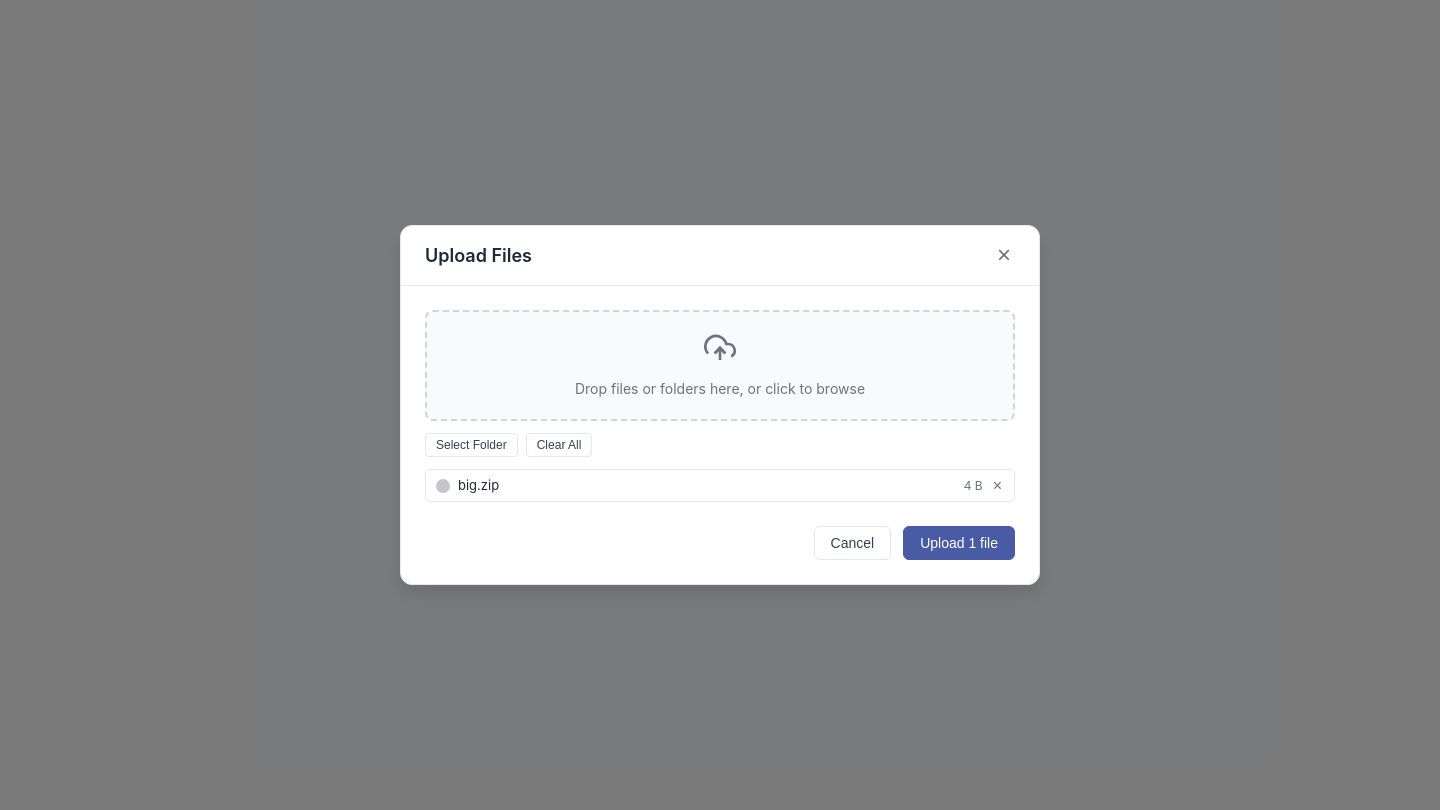
Test: UploadFileModal › shows percent progress, then Finalizing, then done
Earlier steps of the test are not shown.
Later steps or results of the test are not shown.
Click the button "Upload 1 file" at coordinates (959, 543), box [903, 526, 1015, 560]
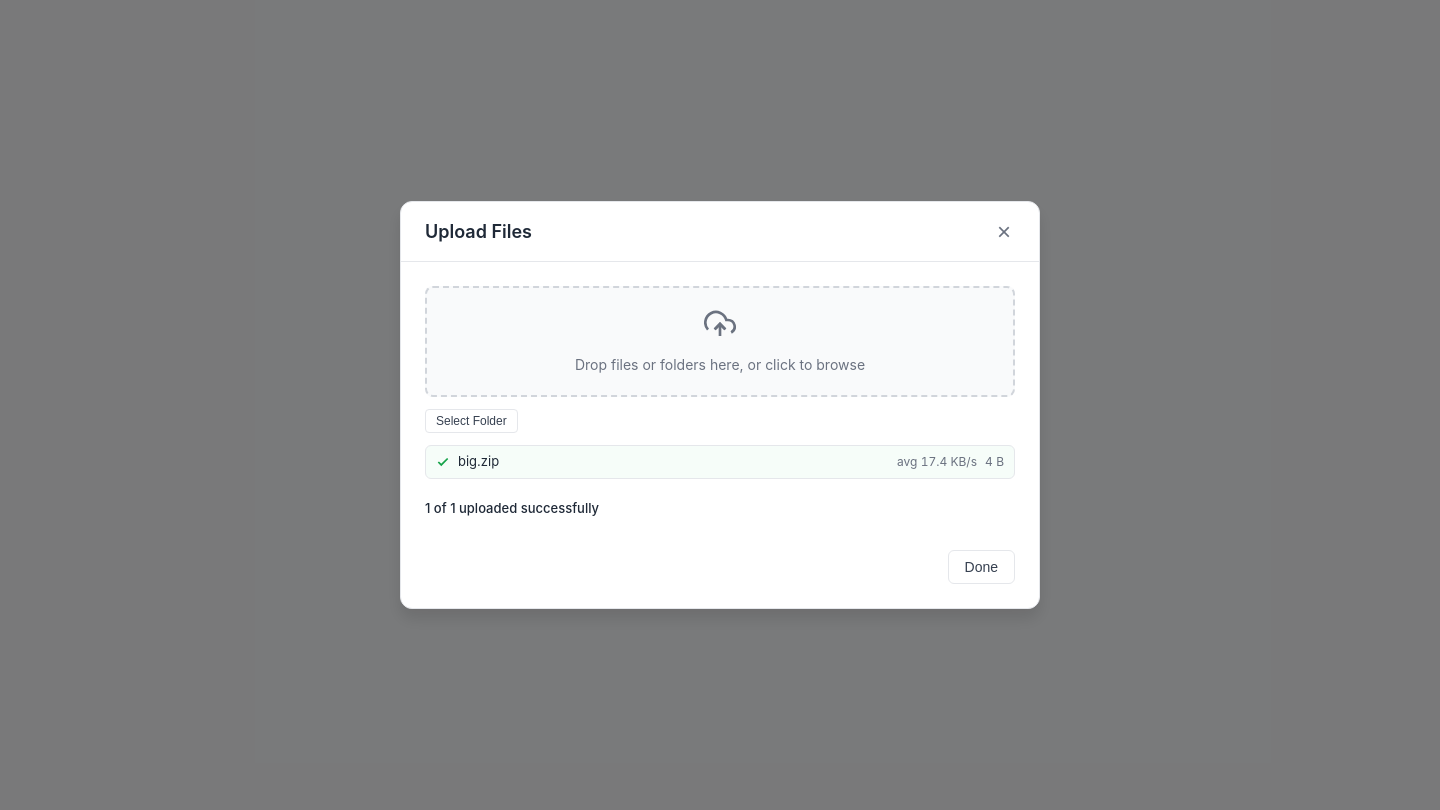
Expected: the text "big.zip" is shown, [458, 453, 499, 469]
Expected: the text "1 of 1 uploaded successfully" is shown, [425, 500, 599, 516]
Expected: the icon with class "status-done" next to "big.zip" is shown, [436, 455, 450, 469]
